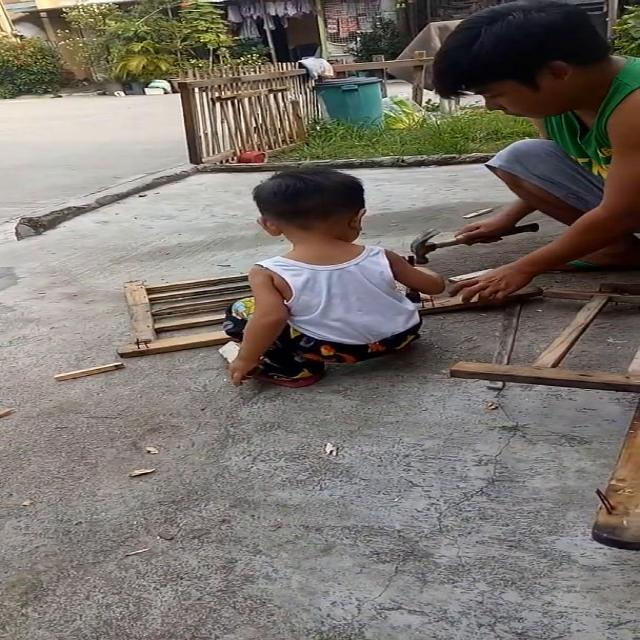hammer: (407, 221, 546, 262)
